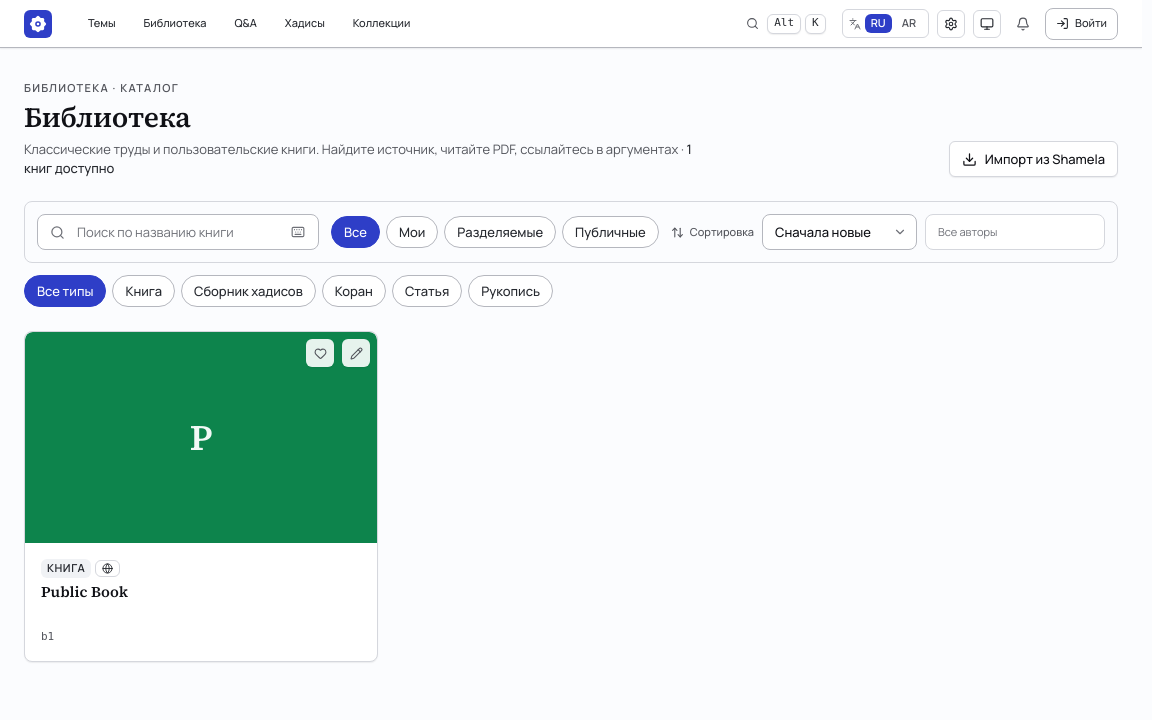
Scenario: BookListPage / Library overview › «Мои» фильтр anonymous (user=null) - пустой список
expect the heading "Public Book" is shown: met, box [41,581,128,602]
Click the button "Мои" at (412, 232), box [386,216,438,248]
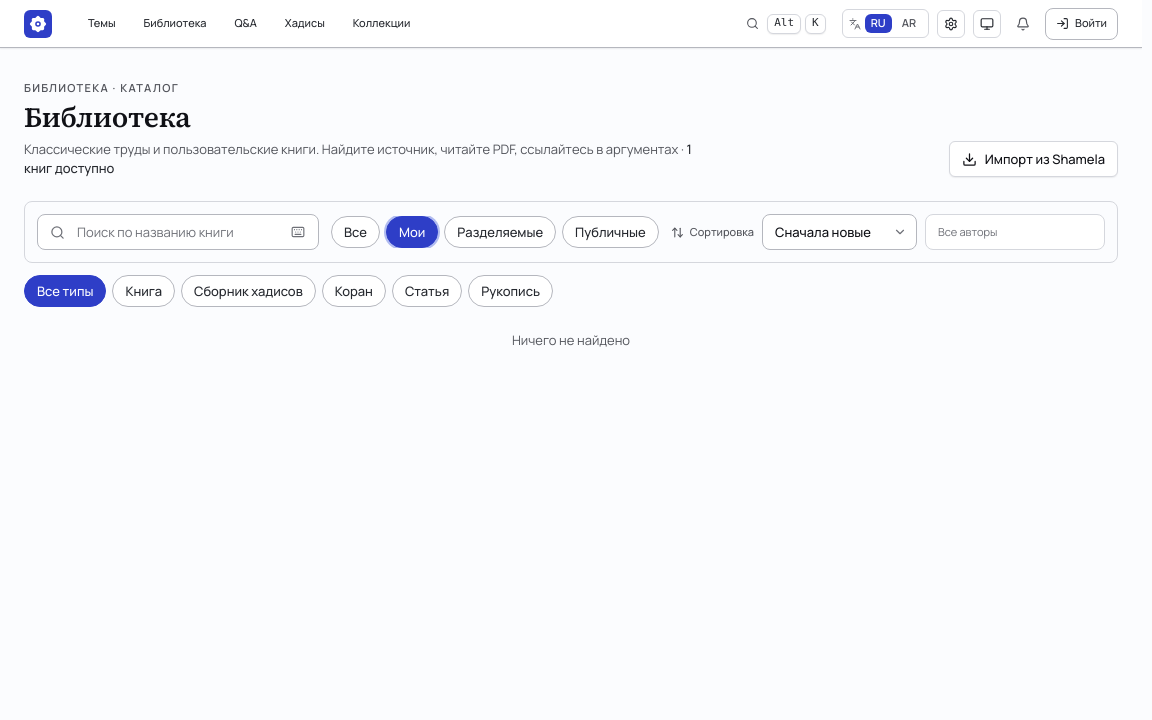
expect the link "Public Book" is gone: met
